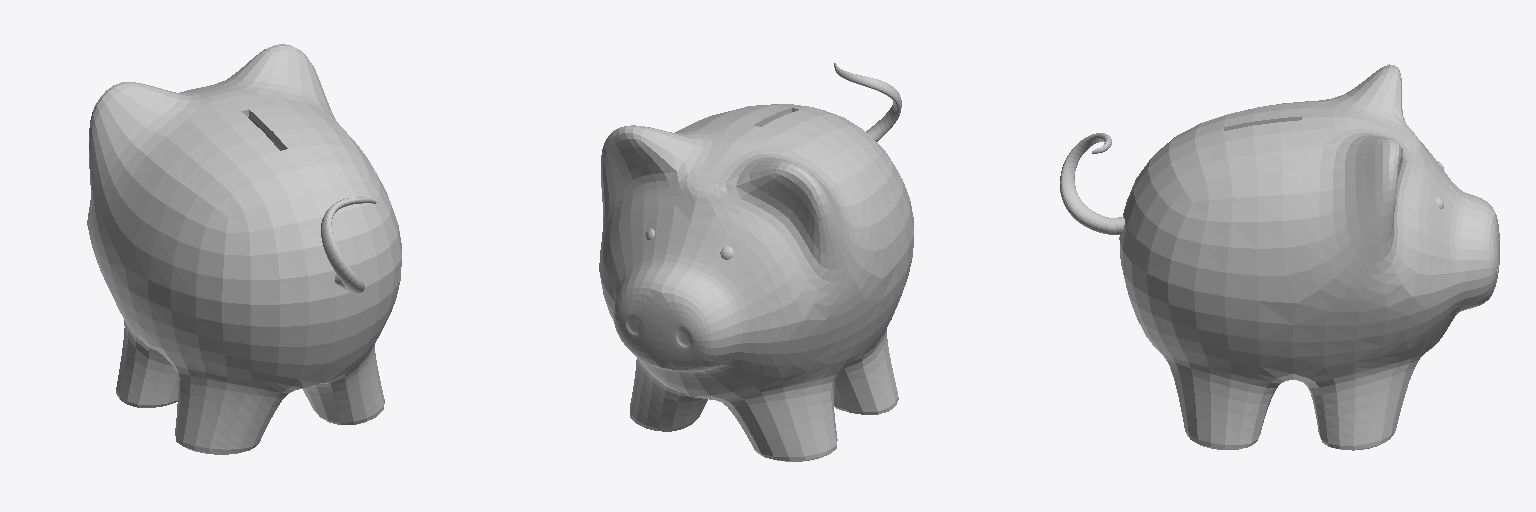
File: pig2.obj
The picture shows the model from 3 angles: view 1: azimuth 30°, elevation 25°; view 2: azimuth 150°, elevation 25°; view 3: azimuth 270°, elevation 25°; orthographic projection.
Parts seen in each view (by area): view 1: Object02; view 2: Object02; view 3: Object02.
Boxes of the visible parts, box(x1,y1,x2,y2) form: Object02: box(87, 44, 401, 454); Object02: box(599, 63, 913, 461); Object02: box(1060, 64, 1499, 450).
Bounding box in the file's own units: 1.58 × 1.84 × 2.44.